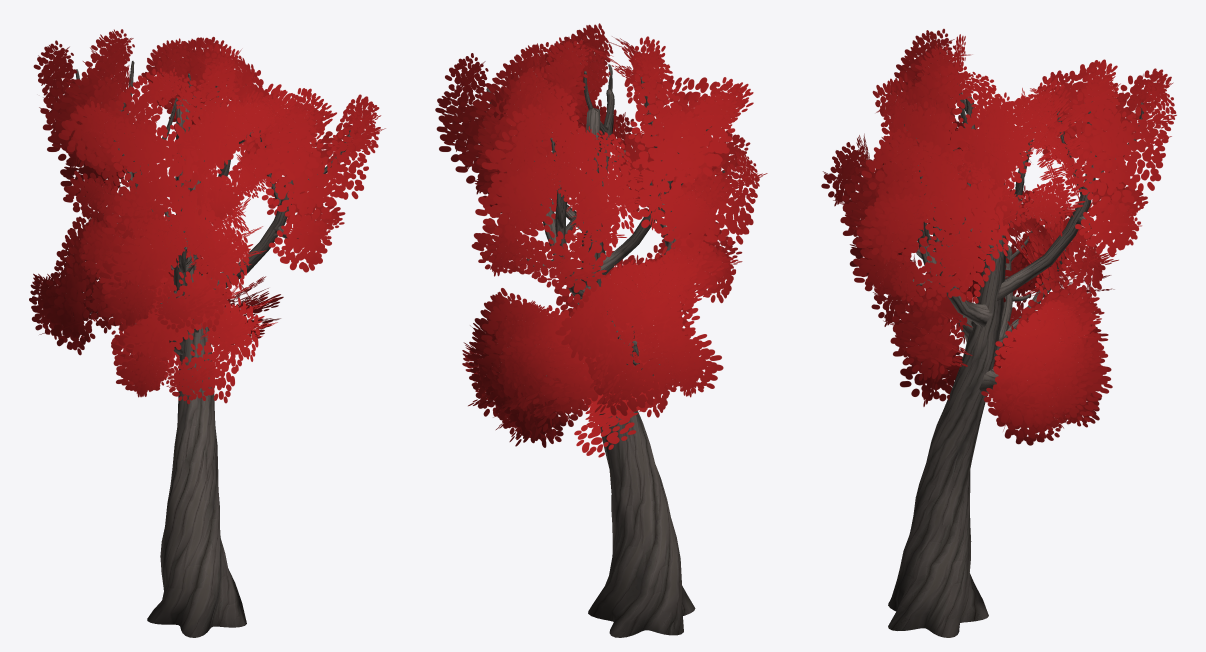
File: twisted-tree-transformed.glb
3 renders of one model, left to right at view 1: azimuth 30°, elevation 25°; view 2: azimuth 150°, elevation 25°; view 3: azimuth 270°, elevation 25°, orthographic. The views are drawn at different scales.
Parts seen in each view (by area): view 1: TwistedTree_5; view 2: TwistedTree_5; view 3: TwistedTree_5.
Boxes of the visible parts, x1,y1,x2,y2 form: TwistedTree_5: (29, 29, 385, 637); TwistedTree_5: (435, 23, 767, 637); TwistedTree_5: (821, 28, 1176, 637).
Bounding box in the file's own units: 9.49 × 15.66 × 9.39.
Materials: 2 (2 with a texture image).
